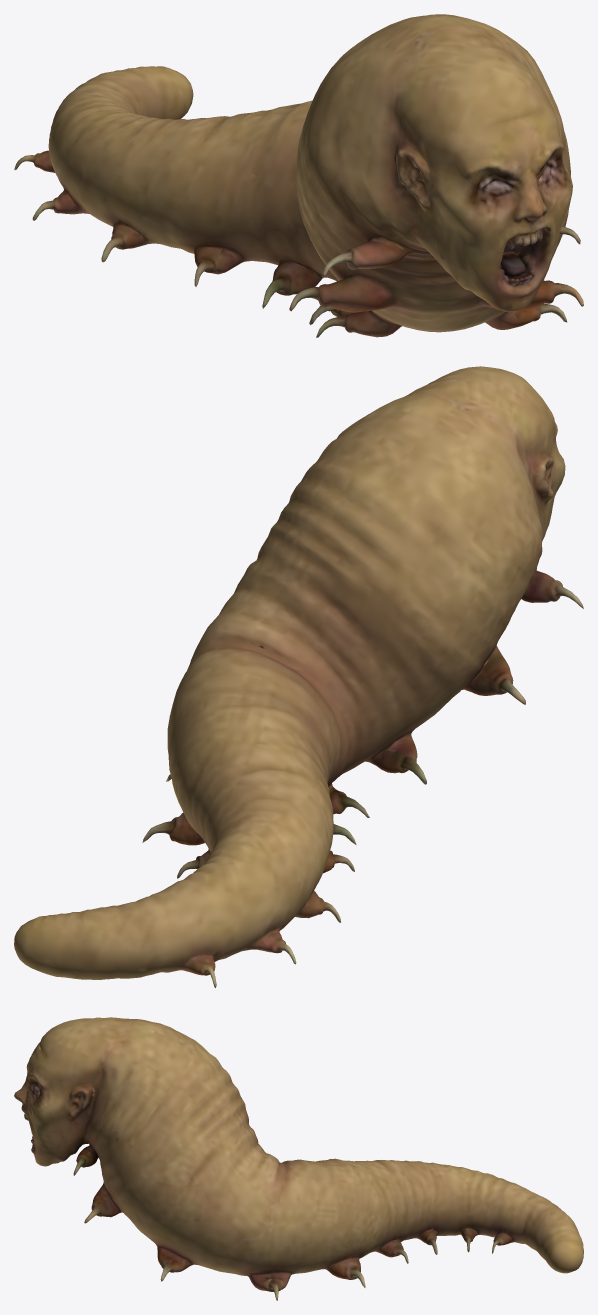
Rendered from MZ4250 - Larvae_mad 2025.glb.
3 views of the same model, one above another, from view 1: azimuth 30°, elevation 25°; view 2: azimuth 150°, elevation 25°; view 3: azimuth 270°, elevation 25° (orthographic). The views are drawn at different scales.
Parts seen in each view (by area): view 1: ORGANIC BASE SPHERE.001; view 2: ORGANIC BASE SPHERE.001; view 3: ORGANIC BASE SPHERE.001.
Part boxes in pixels (x1,y1,x2,y2): ORGANIC BASE SPHERE.001: (14,14,583,337); ORGANIC BASE SPHERE.001: (14,366,583,987); ORGANIC BASE SPHERE.001: (14,1017,583,1300).
Size of the model in its own units: 30.36 by 34.83 by 78.11.
1 material, 1 textured.
